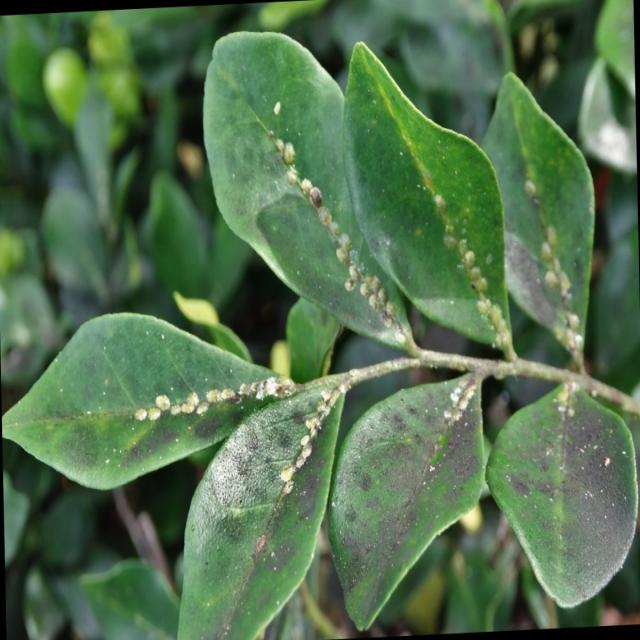Sooty Mold: (2, 26, 636, 636)
